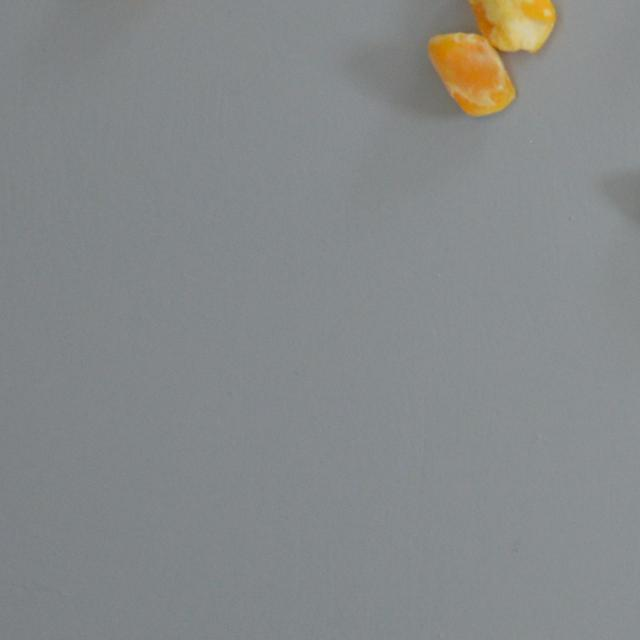pelicula: (424, 32, 518, 116), (458, 0, 556, 54)
